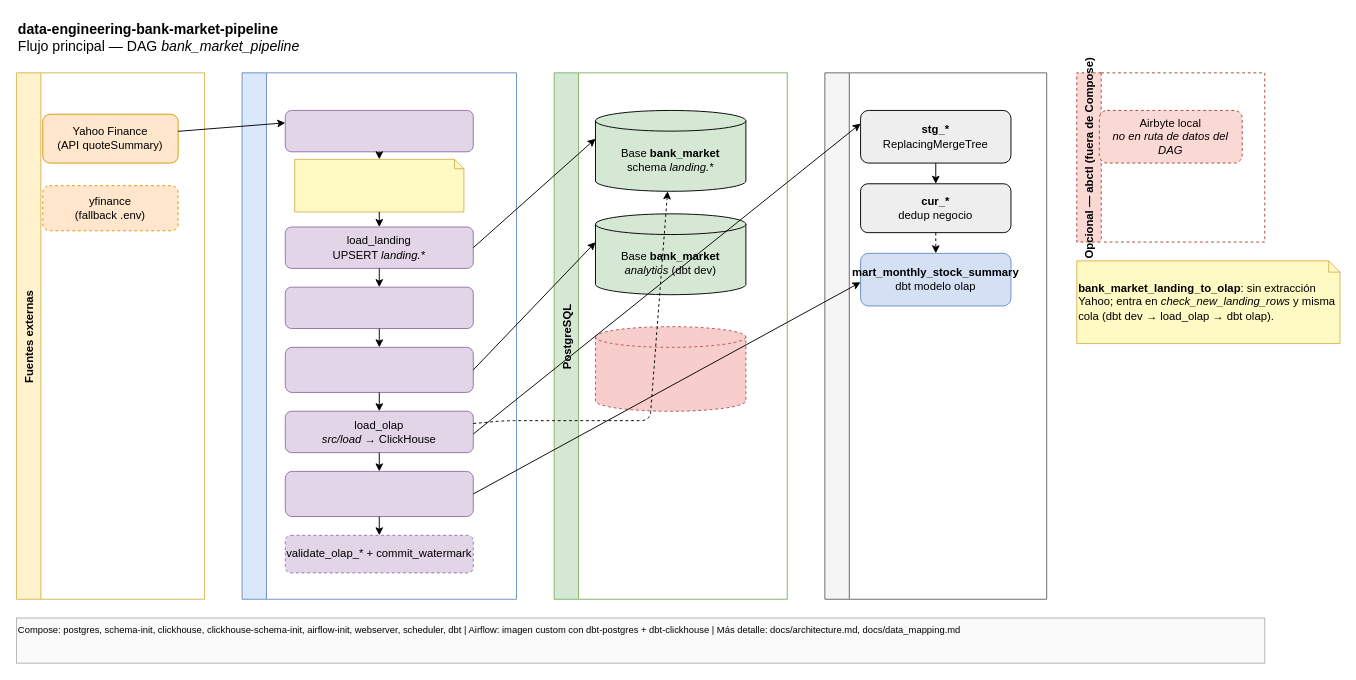
This 1356x680 diagram has some shape labels left out. Here are the shapes that lost their labels. From the top down, the box of each, then its label:
(284, 110, 473, 152): extract_market_data src/extract
(294, 158, 464, 212): Scratch disco PIPELINE_XCOM_SCRATCH_DIR
(284, 286, 473, 329): check_new_landing_rows watermark ingested_at
(241, 72, 517, 599): Airflow (Docker Compose)
(824, 72, 1047, 599): ClickHouse — database olap
(284, 346, 473, 392): dbt deps + dbt run/test target=dev staging/marts
(595, 326, 746, 411): Base airflow metadata UI/scheduler
(284, 470, 473, 517): monthly_summary dbt target=olap mart
